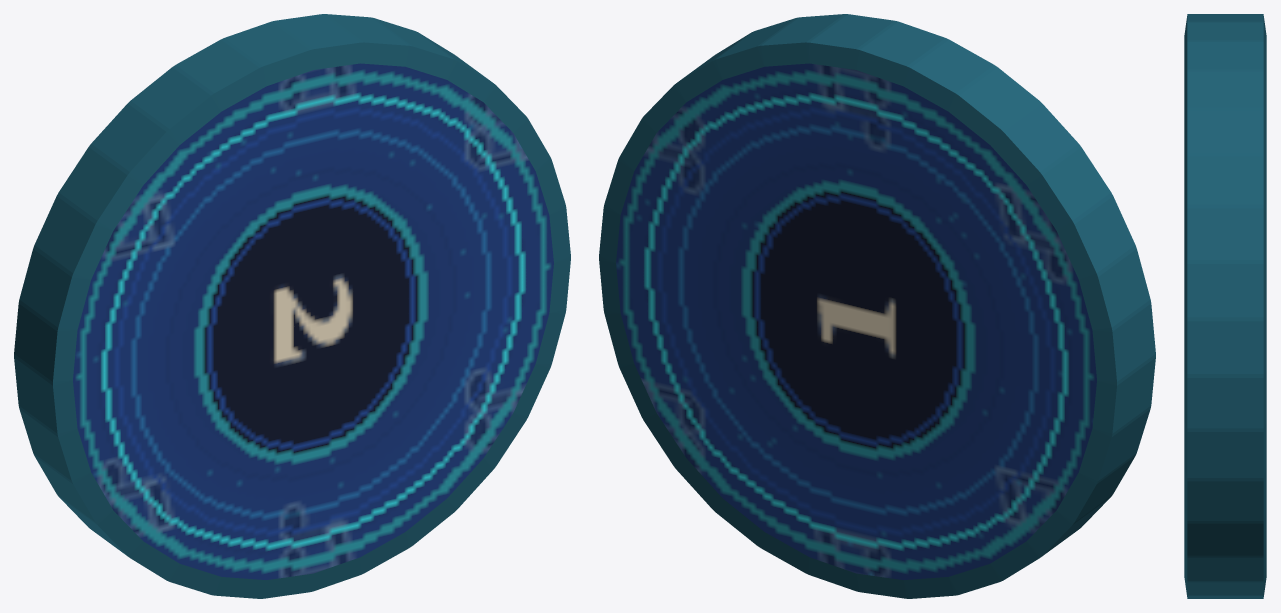
The picture shows the model from 3 angles, left to right: view 1: azimuth 30°, elevation 25°; view 2: azimuth 150°, elevation 25°; view 3: azimuth 270°, elevation 25°; orthographic projection. The views are drawn at different scales.
Bounding box in the file's own units: 101 × 101 × 14.14.
1 material, 1 textured.
